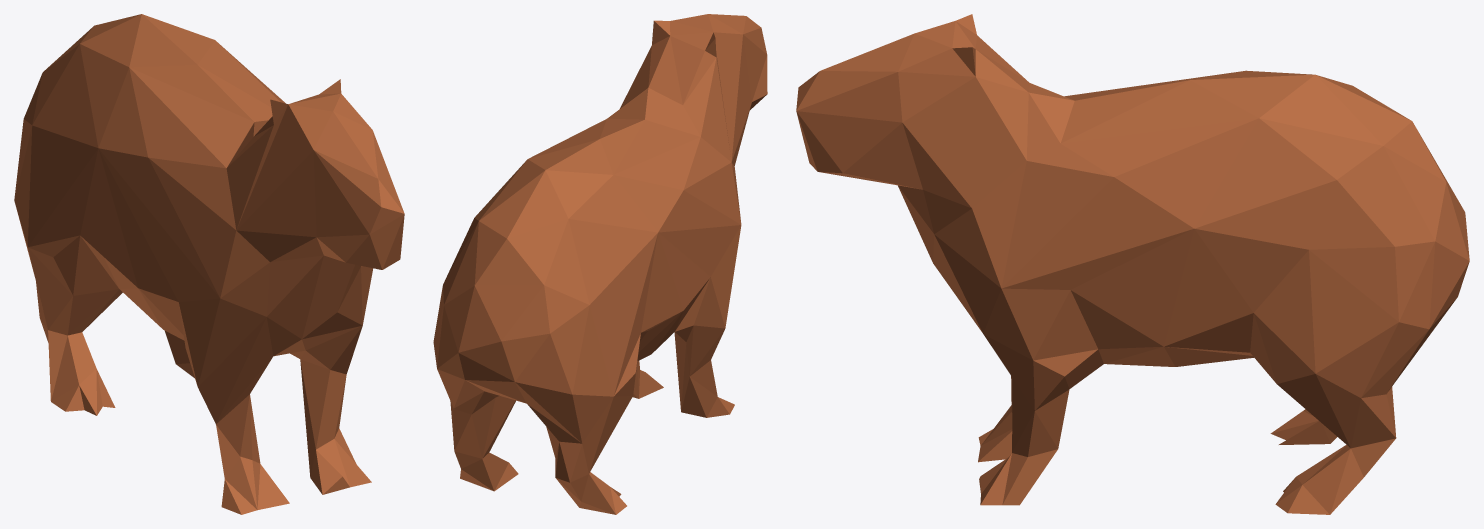
The model's file is Capybara.fbx.
3 renders of one model, left to right at view 1: azimuth 30°, elevation 25°; view 2: azimuth 150°, elevation 25°; view 3: azimuth 270°, elevation 25°, orthographic. The views are drawn at different scales.
Parts seen in each view (by area): view 1: Capybara; view 2: Capybara; view 3: Capybara.
Boxes of the visible parts, x1,y1,x2,y2 form: Capybara: (14,14,404,514); Capybara: (433,14,767,514); Capybara: (796,14,1469,514).
Size of the model in its own units: 29.47 by 59.82 by 83.01.
